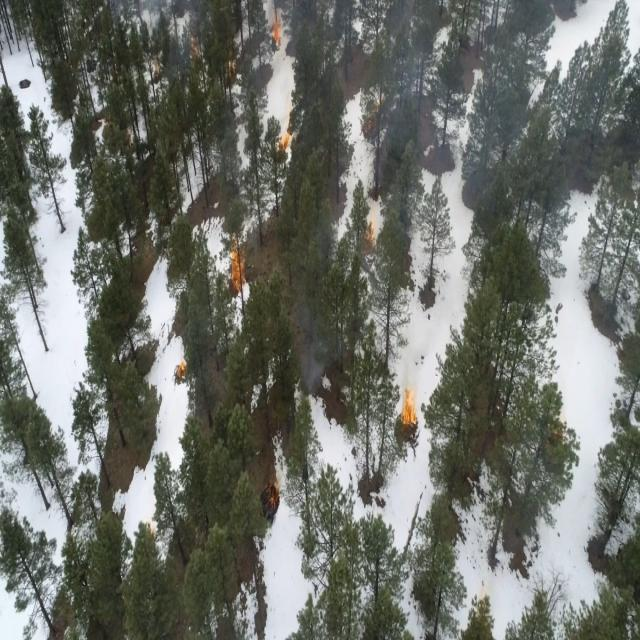Fire: (399, 374, 422, 449), (226, 215, 246, 301), (362, 201, 379, 261), (272, 119, 294, 165), (268, 13, 286, 59), (170, 356, 194, 388)
